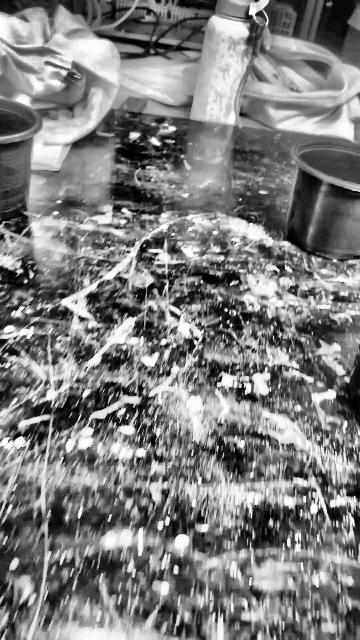pot: (288, 137, 360, 261), (1, 99, 41, 221)
